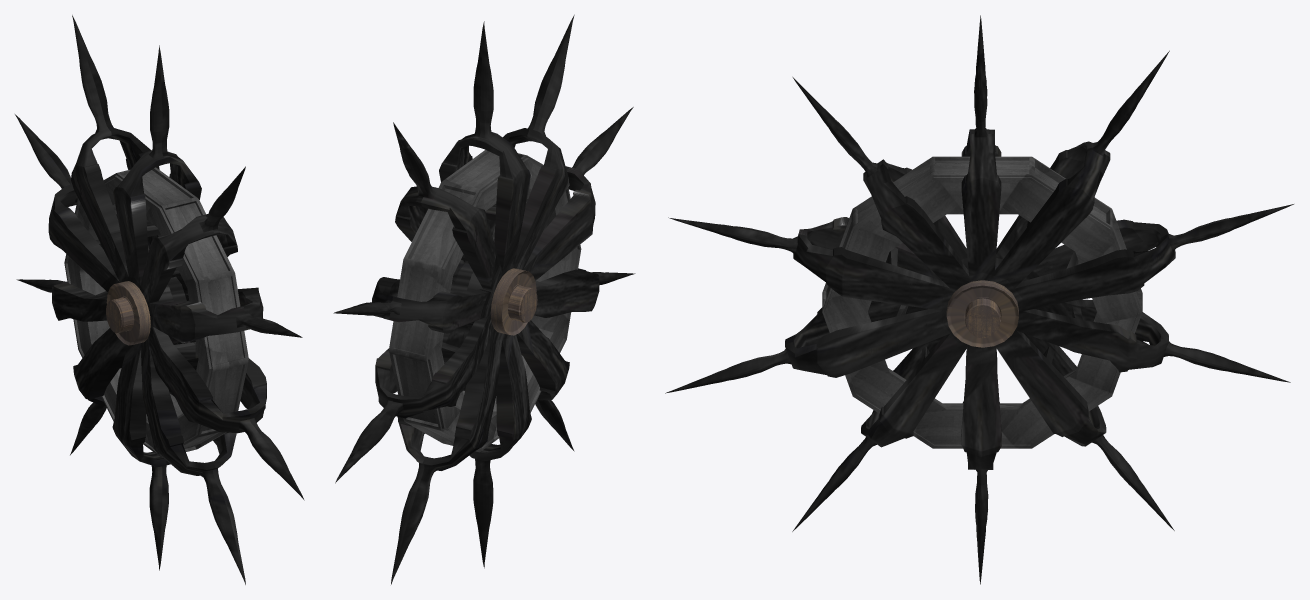
Rendered from deathWheelUVS.fbx.
The picture shows the model from 3 angles, left to right: view 1: azimuth 30°, elevation 25°; view 2: azimuth 150°, elevation 25°; view 3: azimuth 270°, elevation 25°; orthographic projection. The views are drawn at different scales.
Parts seen in each view (by area): view 1: deathWheel005:polySurface31; view 2: deathWheel005:polySurface31; view 3: deathWheel005:polySurface31.
Part boxes in pixels (box(x1,y1,x2,y2)): deathWheel005:polySurface31: box(15, 15, 304, 584); deathWheel005:polySurface31: box(333, 14, 635, 584); deathWheel005:polySurface31: box(665, 15, 1293, 584).
Size of the model in its own units: 128 by 756 by 756.
